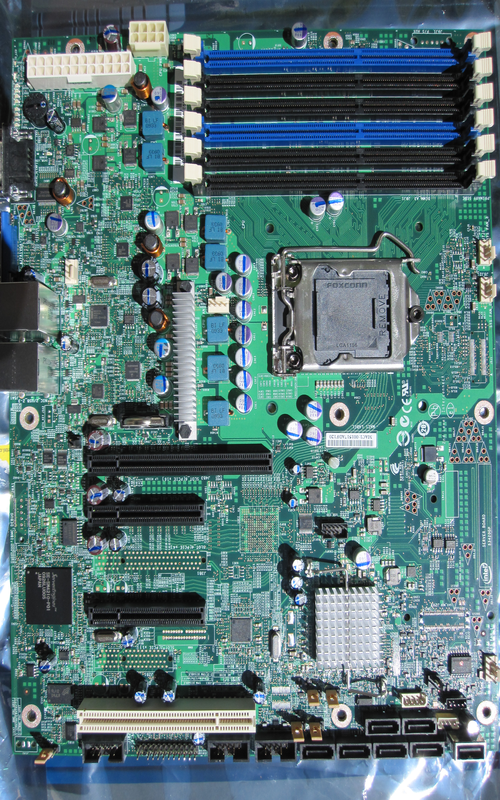Cirtuit-Board: (13, 0, 484, 800)
